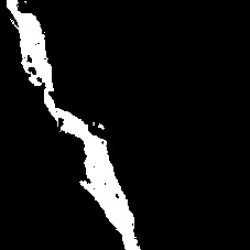crack: (7, 0, 140, 249)
